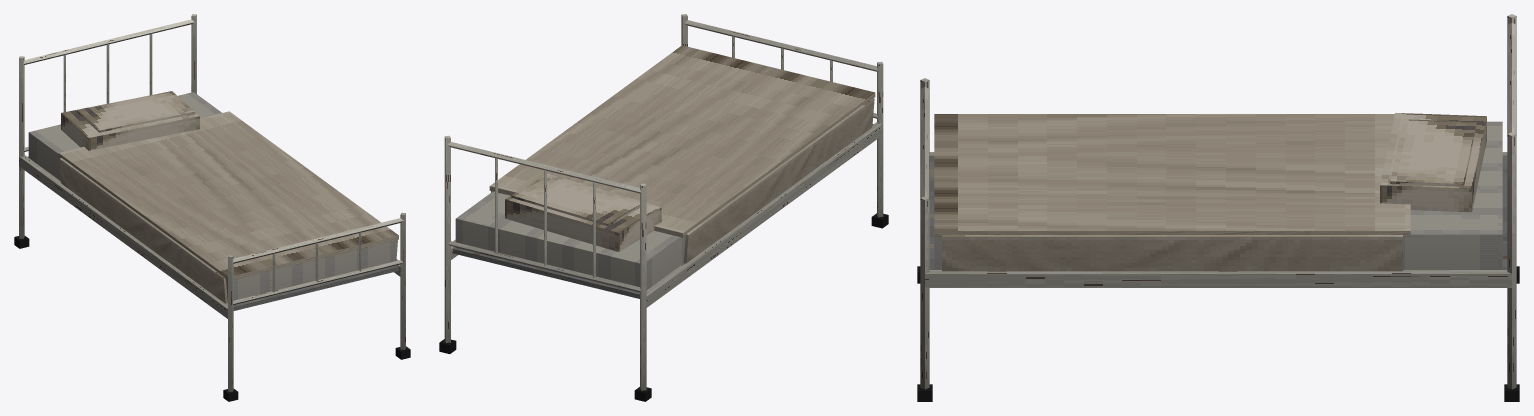
The model's file is prop_bed-0.glb.
3 renders of one model, left to right at view 1: azimuth 30°, elevation 25°; view 2: azimuth 150°, elevation 25°; view 3: azimuth 270°, elevation 25°, orthographic. The views are drawn at different scales.
Parts seen in each view (by area): view 1: prop_bed-0; view 2: prop_bed-0; view 3: prop_bed-0.
Part boxes in pixels (x1,y1,x2,y2): prop_bed-0: (14,14,410,401); prop_bed-0: (439,14,888,401); prop_bed-0: (917,14,1519,401).
Size of the model in its own units: 0.96 by 0.95 by 1.96.
Materials: 2 (2 with a texture image).
